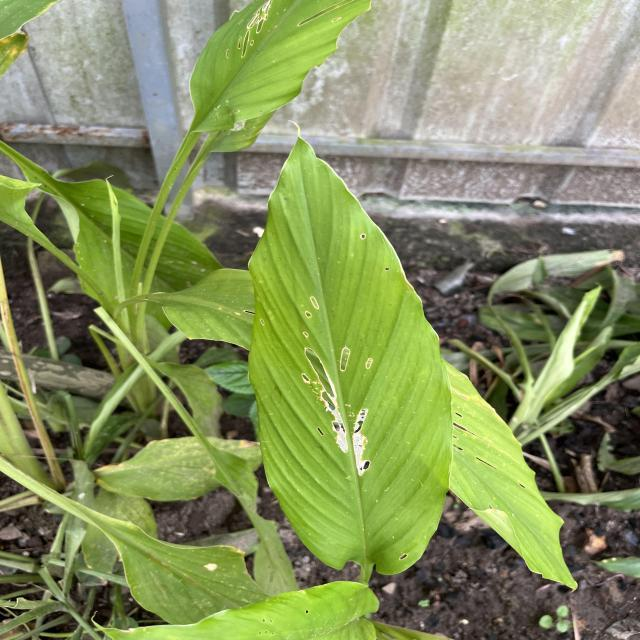Curcuma longa: (242, 114, 456, 578)
